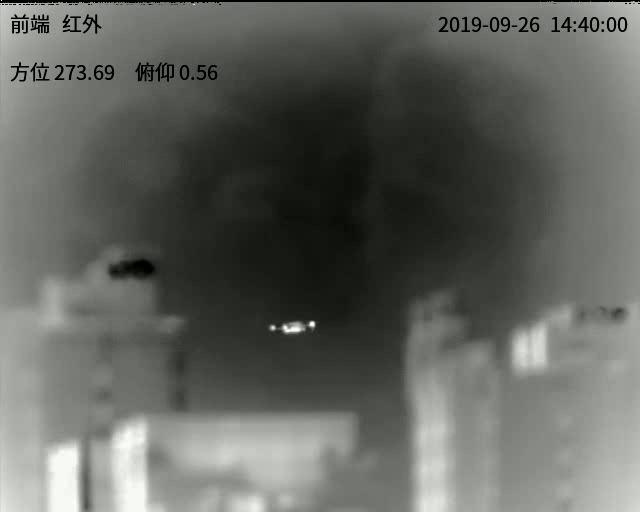DRONE: (267, 319, 318, 335)
